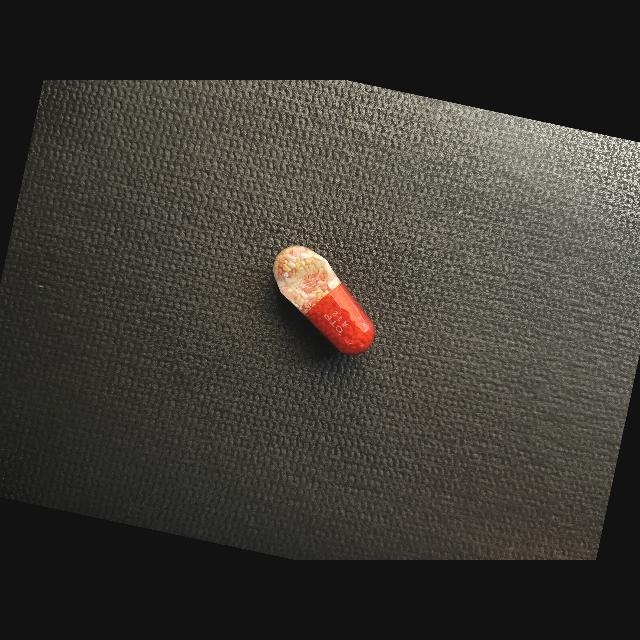Defective Capsule: (273, 245, 375, 355)
